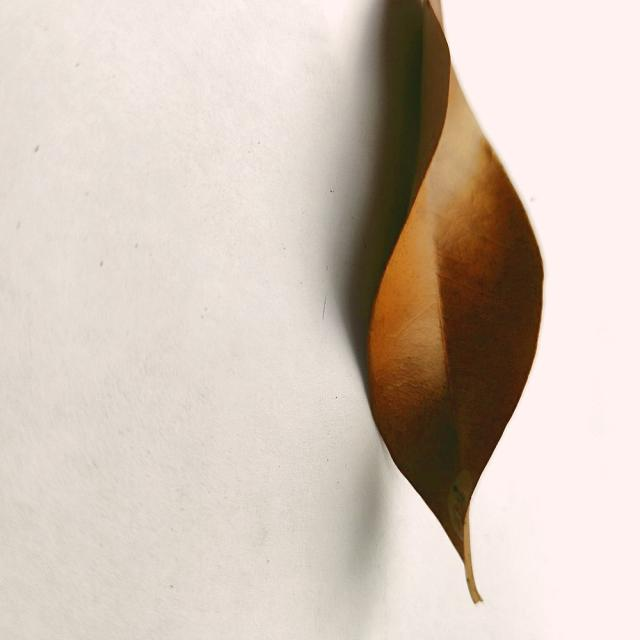Dry_Leaf-Lychee: (364, 0, 546, 605)
